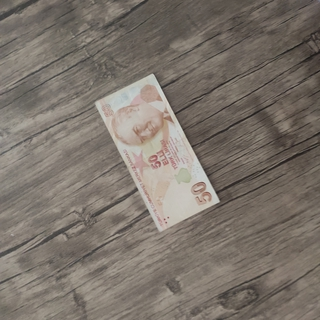50TLFront: (93, 72, 221, 232)
